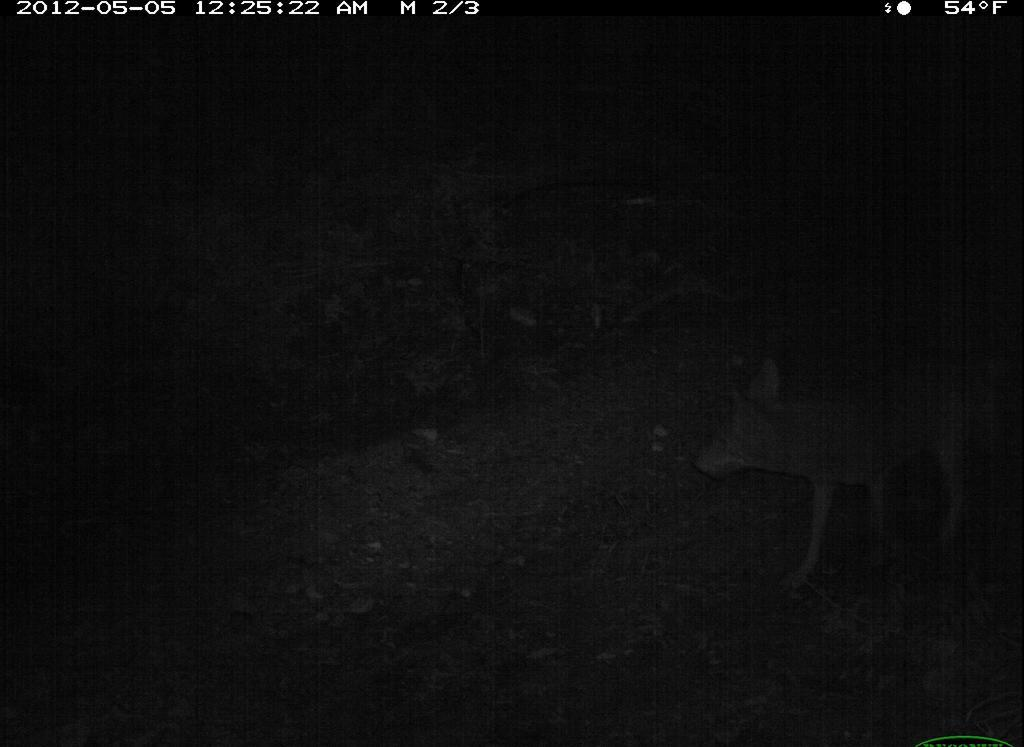coyote: (678, 337, 994, 601)
